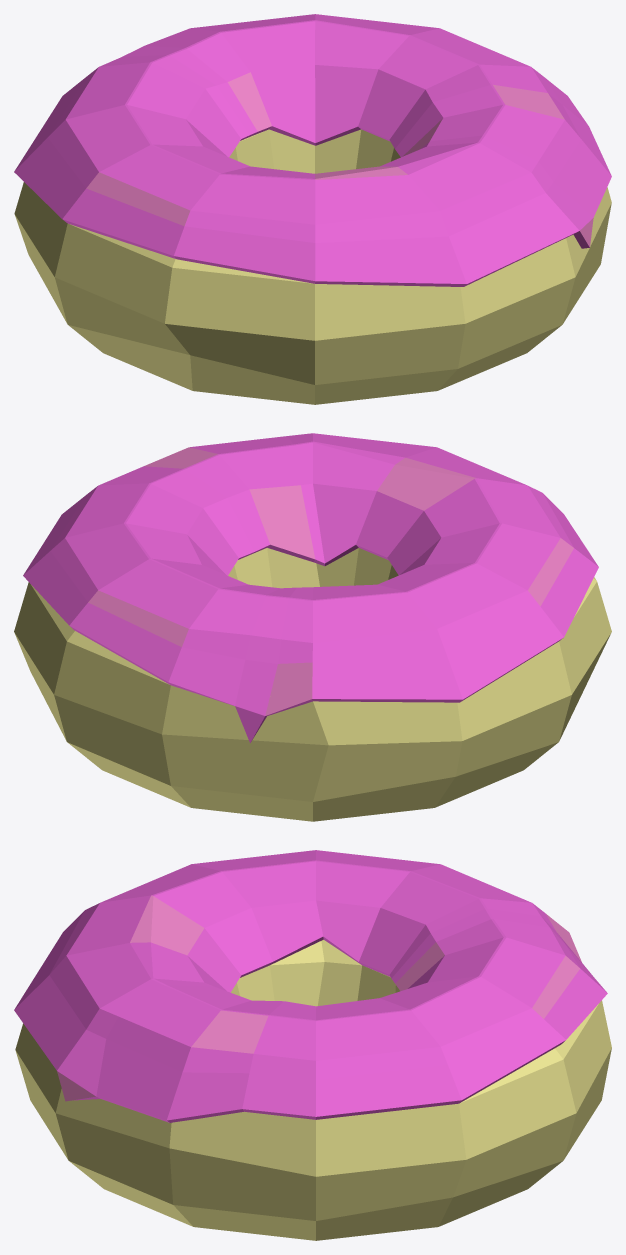
The model's file is пончик шаблон.fbx.
3 renders of one model, top to bottom at view 1: azimuth 30°, elevation 25°; view 2: azimuth 150°, elevation 25°; view 3: azimuth 270°, elevation 25°, orthographic.
Visible parts, largest first — view 1: Torus.001, Torus; view 2: Torus.001, Torus; view 3: Torus.001, Torus.
Part boxes in pixels (x1=…): Torus.001: x1=14, y1=14, x2=611, y2=286; Torus: x1=14, y1=129, x2=611, y2=404; Torus.001: x1=23, y1=433, x2=598, y2=742; Torus: x1=14, y1=548, x2=611, y2=821; Torus.001: x1=14, y1=850, x2=607, y2=1122; Torus: x1=15, y1=939, x2=611, y2=1240.
Bounding box in the file's own units: 70 × 27.66 × 69.6.
